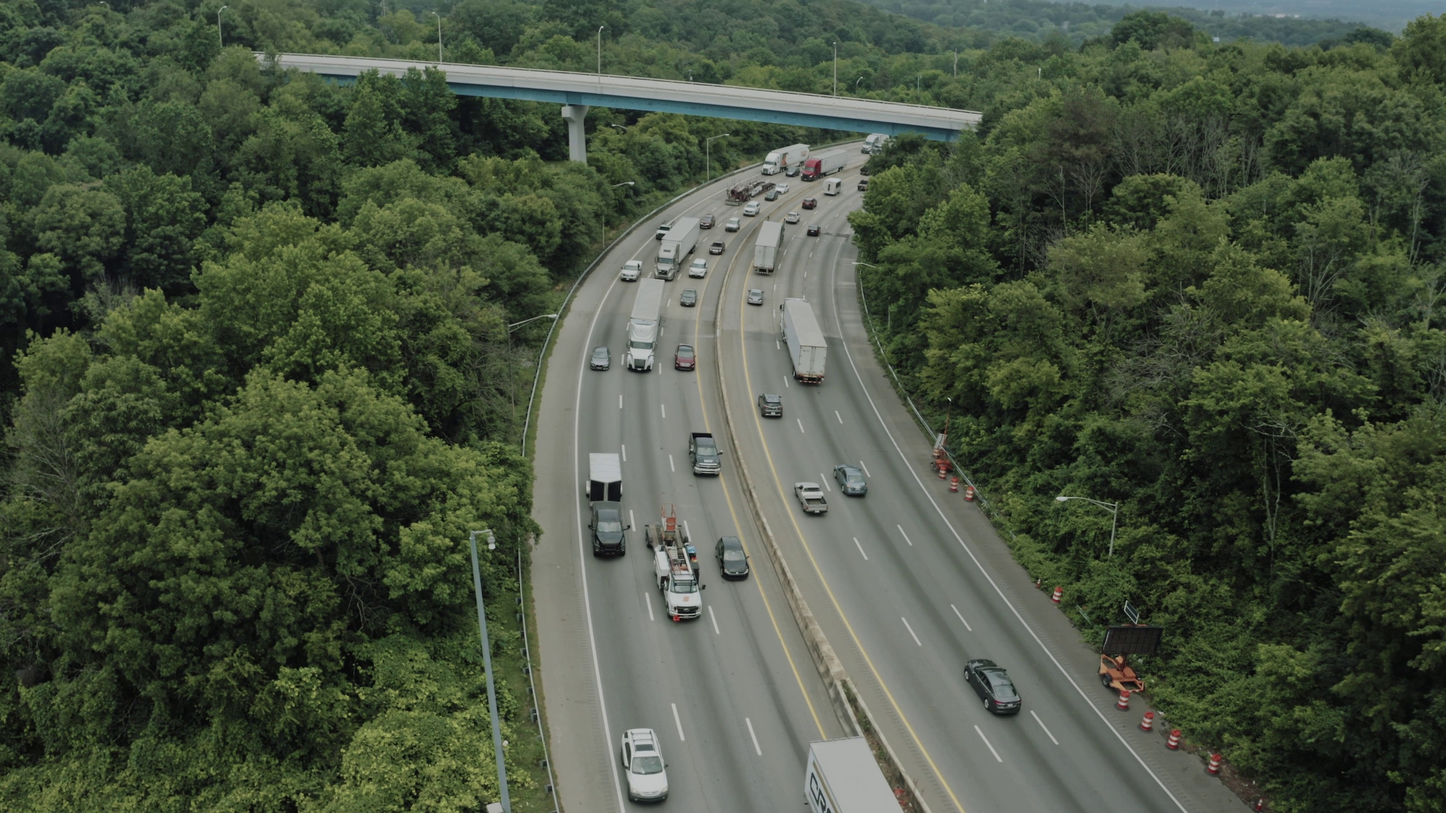Vehicle: (639, 513, 706, 621), (620, 728, 669, 804), (964, 659, 1022, 715), (588, 501, 630, 558), (623, 320, 662, 372), (688, 433, 723, 476), (715, 536, 749, 580), (775, 294, 807, 338), (651, 242, 682, 281), (794, 482, 830, 514), (833, 464, 868, 496), (800, 156, 825, 182), (758, 393, 783, 418), (674, 343, 696, 371), (725, 184, 750, 206), (589, 347, 611, 371), (620, 260, 643, 282), (761, 151, 783, 174), (861, 133, 883, 154), (656, 219, 676, 241), (688, 258, 708, 279), (824, 177, 843, 196), (680, 288, 698, 307), (743, 201, 760, 217), (747, 289, 764, 305), (699, 214, 716, 229), (725, 217, 741, 232), (709, 241, 725, 255), (785, 211, 800, 224), (802, 197, 817, 210), (785, 167, 801, 177), (807, 225, 821, 236), (775, 183, 789, 194), (764, 191, 778, 201), (857, 180, 868, 191)
